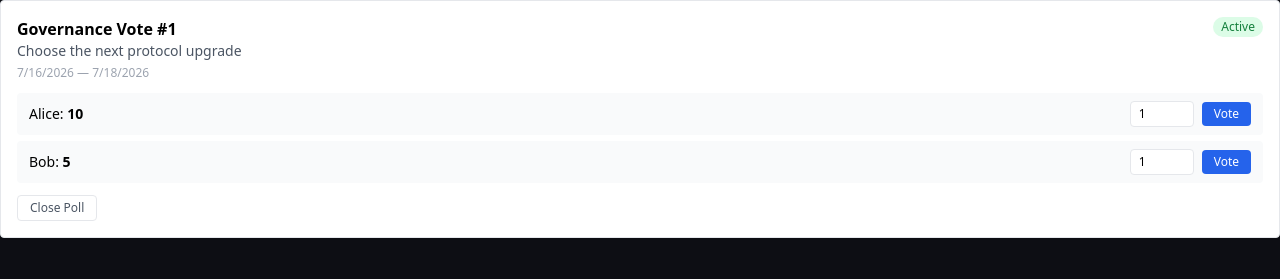
Scenario: PollCard › displays success message on vote
Click the button "Vote" in the row of "Alice".
click(1226, 114)  # box [1202,102,1251,126]
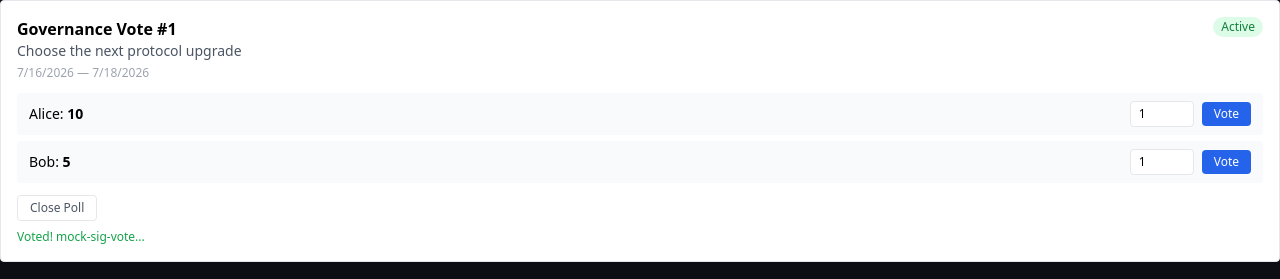
Result: the text "Voted! mock-sig-vote..." is shown at [17,228,145,245]
